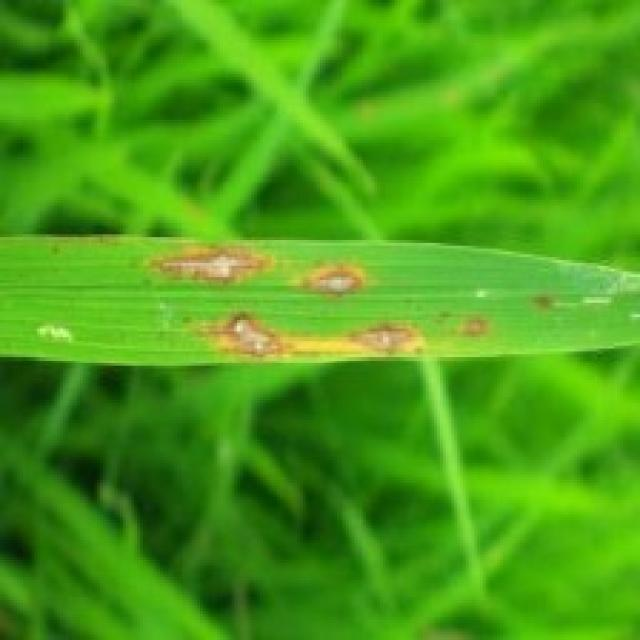Rice___Rice_Blast: (0, 234, 637, 370)
